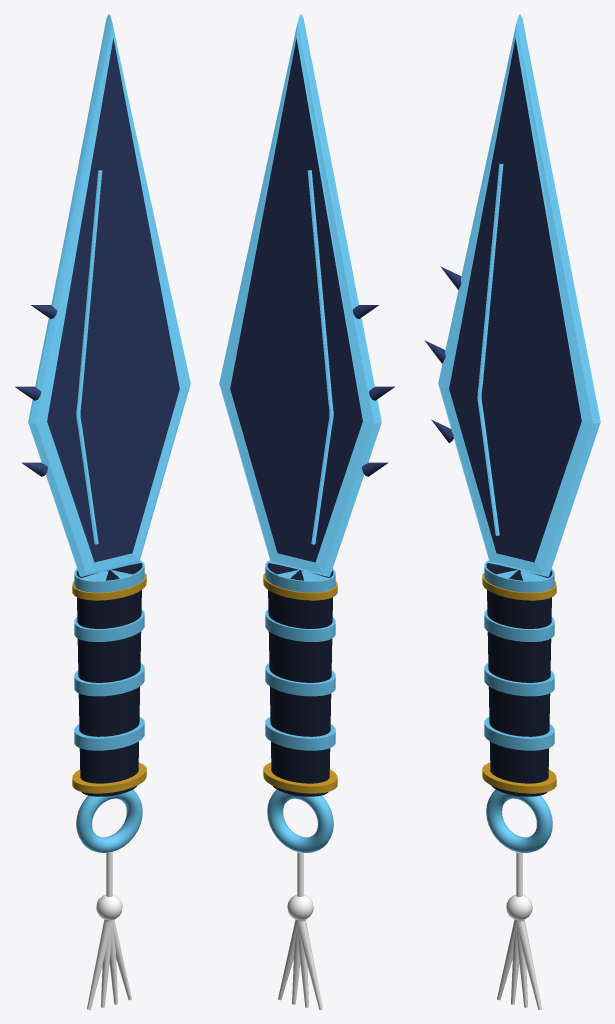
The model's file is 24_Epic_Storm_Kunai.glb.
The picture shows the model from 3 angles, left to right: view 1: azimuth 30°, elevation 25°; view 2: azimuth 150°, elevation 25°; view 3: azimuth 330°, elevation 25°; orthographic projection.
Parts seen in each view (by area): view 1: blade_0, handle_11, pommel_ring_16, blade_inlay_24, ferrule_15, handle_band_14, handle_band_13, handle_band_12, grip_ring_29, grip_ring_28, tassel_strand_19, tassel_knot_18 (+2 smaller); view 2: blade_0, handle_11, pommel_ring_16, blade_inlay_23, ferrule_15, handle_band_14, handle_band_13, handle_band_12, grip_ring_29, grip_ring_28, tassel_strand_19, tassel_knot_18 (+2 smaller); view 3: blade_0, handle_11, pommel_ring_16, blade_inlay_24, ferrule_15, handle_band_14, handle_band_13, handle_band_12, grip_ring_29, grip_ring_28, tassel_strand_22, tassel_knot_18 (+2 smaller).
Part boxes in pixels (x1,y1,x2,y2): blade_0: [28, 14, 190, 576]; handle_11: [76, 563, 142, 796]; pommel_ring_16: [76, 789, 142, 852]; blade_inlay_24: [76, 170, 102, 544]; ferrule_15: [74, 560, 144, 592]; handle_band_14: [74, 717, 144, 750]; handle_band_13: [74, 663, 144, 696]; handle_band_12: [74, 609, 144, 641]; grip_ring_29: [72, 762, 146, 793]; grip_ring_28: [72, 573, 146, 600]; tassel_strand_19: [87, 919, 114, 1009]; tassel_knot_18: [96, 894, 122, 920]; blade_0: [219, 14, 381, 576]; handle_11: [267, 563, 333, 796]; pommel_ring_16: [267, 789, 333, 852]; blade_inlay_23: [307, 170, 333, 544]; ferrule_15: [265, 560, 335, 592]; handle_band_14: [265, 717, 335, 750]; handle_band_13: [265, 663, 335, 696]; handle_band_12: [265, 609, 335, 641]; grip_ring_29: [263, 762, 337, 793]; grip_ring_28: [263, 573, 337, 600]; tassel_strand_19: [295, 919, 322, 1009]; tassel_knot_18: [287, 894, 313, 920]; blade_0: [438, 14, 600, 576]; handle_11: [486, 563, 552, 796]; pommel_ring_16: [486, 789, 552, 852]; blade_inlay_24: [477, 163, 503, 535]; ferrule_15: [484, 560, 554, 592]; handle_band_14: [484, 717, 554, 750]; handle_band_13: [484, 663, 554, 696]; handle_band_12: [484, 609, 554, 641]; grip_ring_29: [482, 762, 556, 793]; grip_ring_28: [482, 573, 556, 600]; tassel_strand_22: [514, 919, 541, 1009]; tassel_knot_18: [506, 894, 532, 920].
Size of the model in its own units: 0.1527 by 0.8215 by 0.0409.
Materials: 8 (8 with a texture image).
